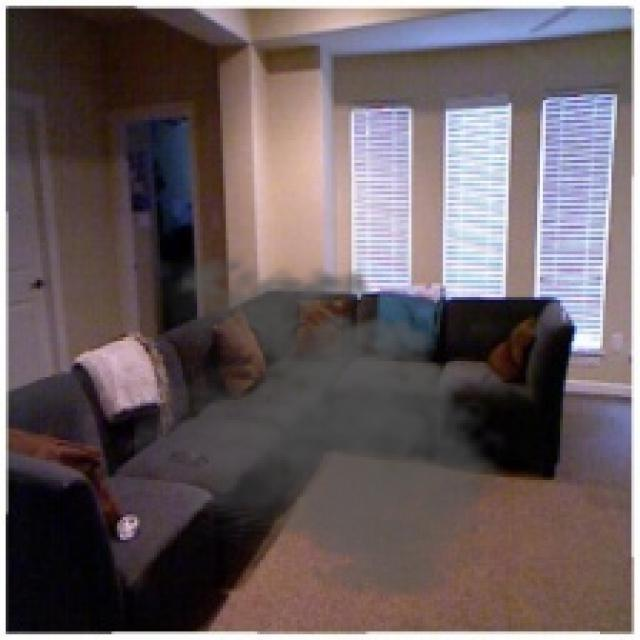Smoke: (135, 245, 520, 606)
